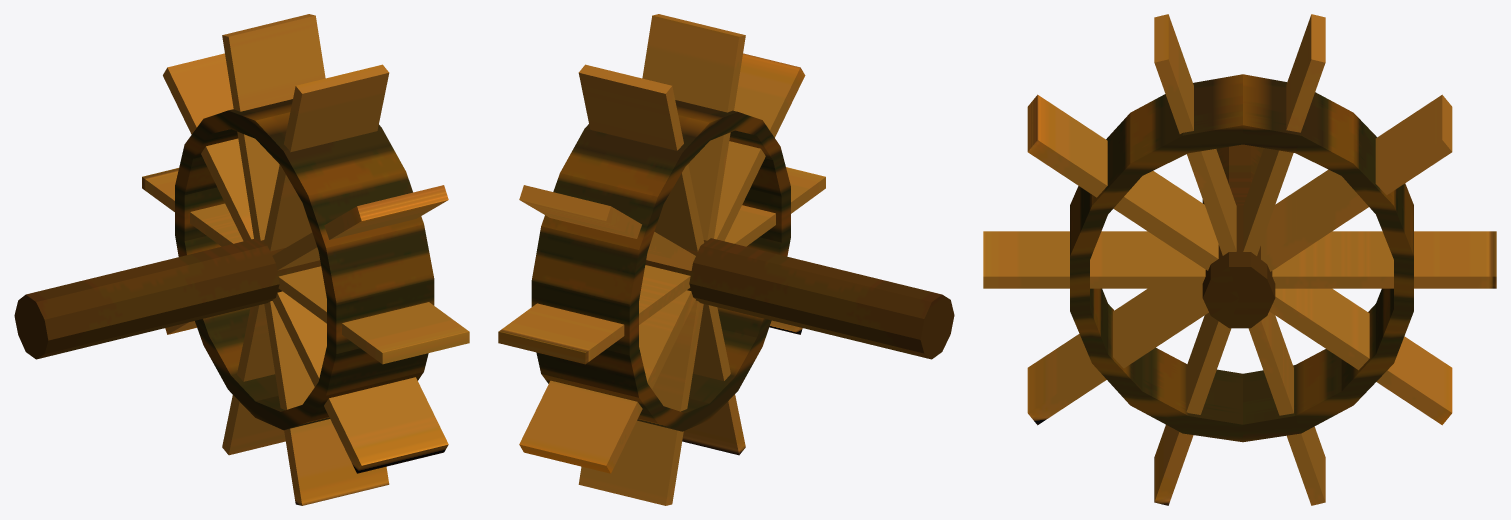
File: Wwheel.glb
The picture shows the model from 3 angles, left to right: view 1: azimuth 30°, elevation 25°; view 2: azimuth 150°, elevation 25°; view 3: azimuth 270°, elevation 25°; orthographic projection. The views are drawn at different scales.
Parts seen in each view (by area): view 1: Wwheel; view 2: Wwheel; view 3: Wwheel.
Boxes of the visible parts, bbox=[...] form: Wwheel: bbox=[14, 14, 469, 505]; Wwheel: bbox=[498, 14, 954, 505]; Wwheel: bbox=[983, 14, 1496, 505].
Size of the model in its own units: 213 by 245 by 256.
1 material, 1 textured.
